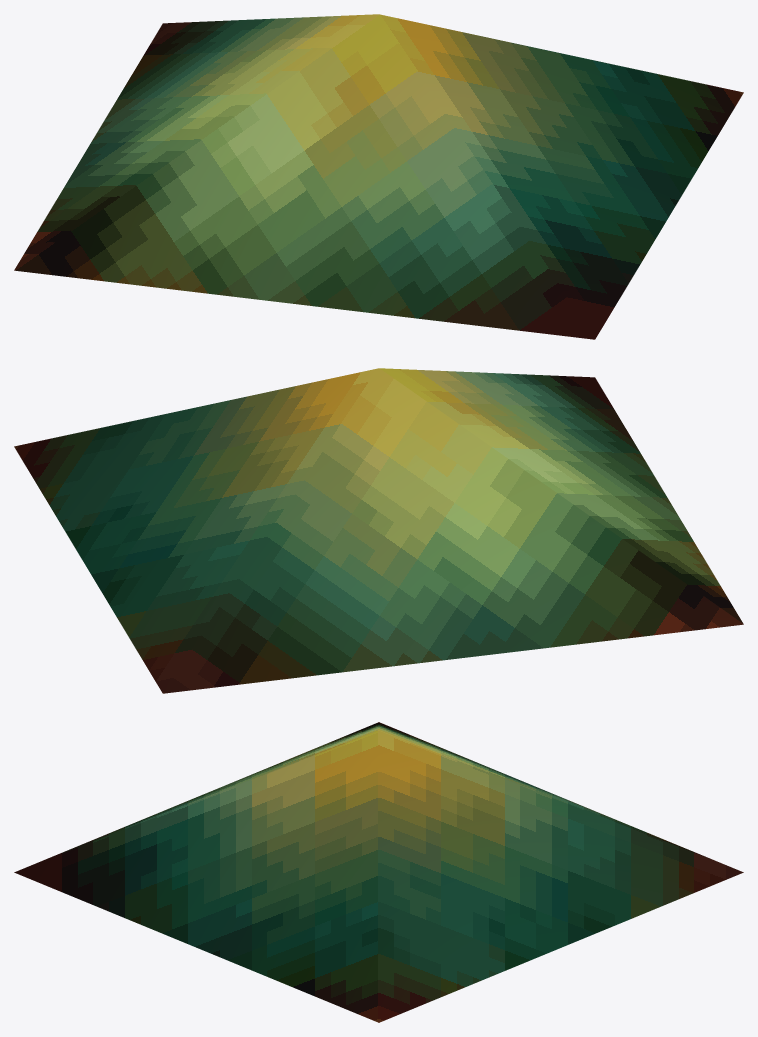
The model's file is frst_fngi_mushroom_blue_a1_l2.fbx.
The picture shows the model from 3 angles, top to bottom: view 1: azimuth 30°, elevation 25°; view 2: azimuth 150°, elevation 25°; view 3: azimuth 270°, elevation 25°; orthographic projection. The views are drawn at different scales.
Visible parts, largest first — view 1: mesh_node; view 2: mesh_node; view 3: mesh_node.
Part boxes in pixels (<box>): mesh_node: <box>14,14,743,339</box>; mesh_node: <box>14,368,743,693</box>; mesh_node: <box>14,722,743,1022</box>.
Size of the model in its own units: 0.3881 by 0.085 by 0.398.
1 material, 1 textured.
